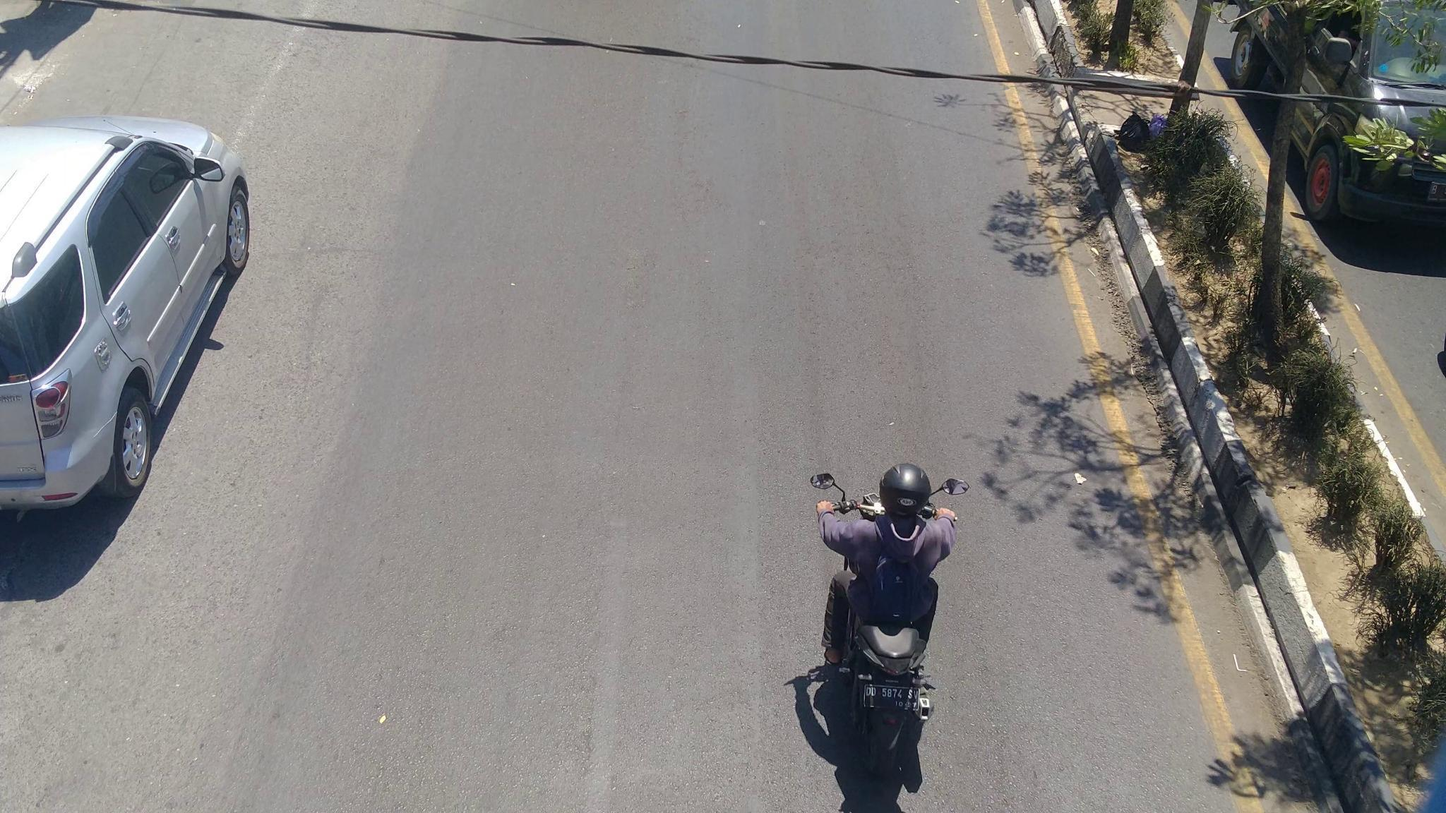Helmet: (875, 456, 935, 520)
bike: (806, 470, 972, 766)
number-plate: (862, 681, 921, 714)
rider: (814, 462, 960, 669)
